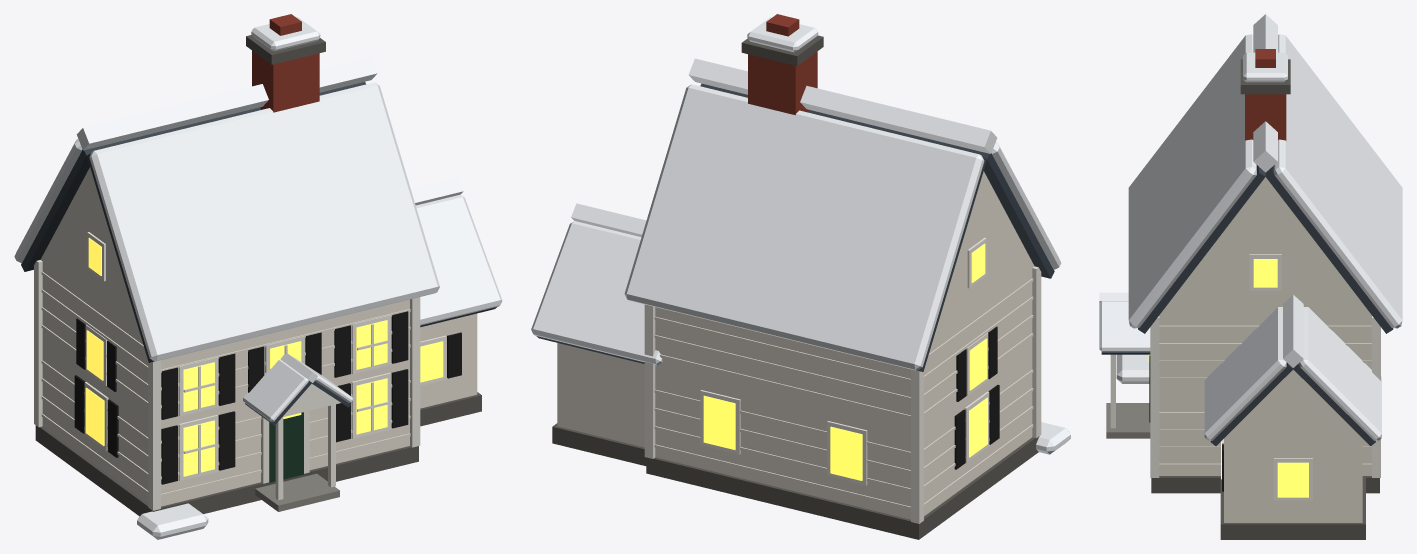
File: clapboard-house.glb
3 views of the same model, side by side, from view 1: azimuth 30°, elevation 25°; view 2: azimuth 150°, elevation 25°; view 3: azimuth 270°, elevation 25° (orthographic). The views are drawn at different scales.
Visible parts, largest first — view 1: clapboard-house; view 2: clapboard-house; view 3: clapboard-house.
Boxes of the visible parts, x1,y1,x2,y2 form: clapboard-house: [14, 14, 502, 539]; clapboard-house: [531, 14, 1070, 539]; clapboard-house: [1099, 14, 1402, 539].
Size of the model in its own units: 12.75 by 12.88 by 8.75.
